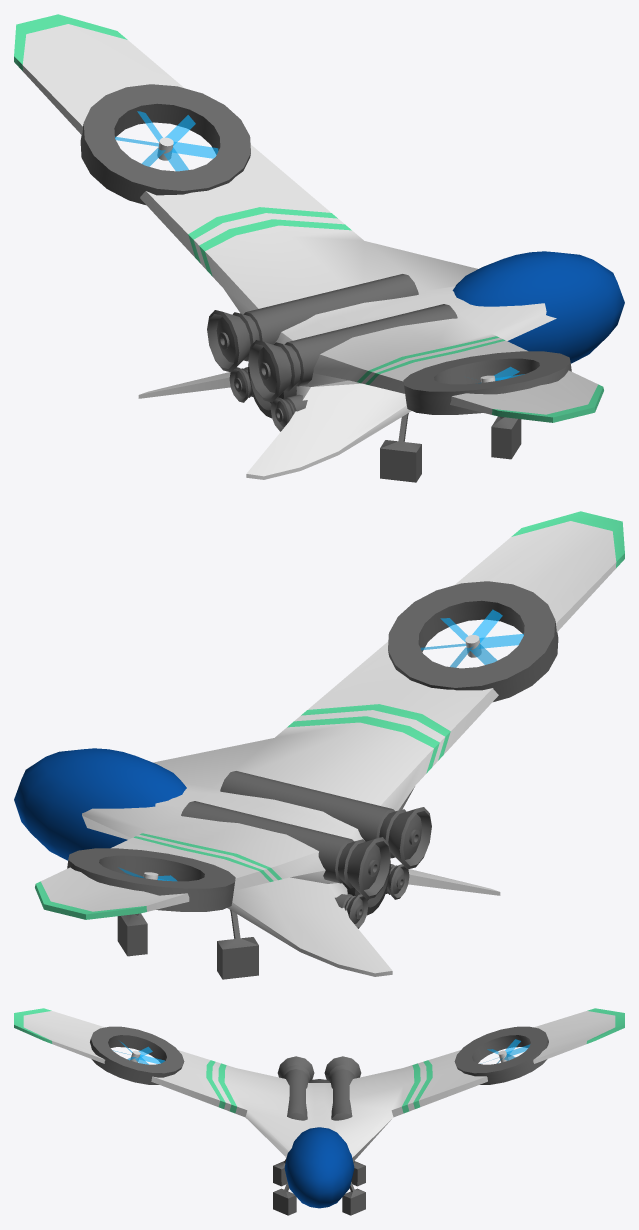
File: ship.glb
3 views of the same model, one above another, from view 1: azimuth 30°, elevation 25°; view 2: azimuth 150°, elevation 25°; view 3: azimuth 270°, elevation 25° (orthographic). The views are drawn at different scales.
Visible parts, largest first — view 1: core-Mat, Tube, Oil Tank (×2), sedile, core-Mat.1 (×2), zampa, elichesx; view 2: core-Mat, Tube, Oil Tank (×2), sedile, core-Mat.1 (×2), zampa, elichedx; view 3: core-Mat, Tube, sedile, Oil Tank, core-Mat.1 (×2), zampa, elichedx, elichesx.
Part boxes in pixels (x1=…): core-Mat: x1=22, y1=24, x2=597, y2=479; Tube: x1=80, y1=84, x2=571, y2=414; Oil Tank (×2): x1=207, y1=274, x2=457, y2=431; sedile: x1=452, y1=251, x2=624, y2=363; core-Mat.1 (×2): x1=14, y1=14, x2=603, y2=422; zampa: x1=380, y1=413, x2=521, y2=482; elichesx: x1=115, y1=111, x2=218, y2=171; core-Mat: x1=41, y1=521, x2=616, y2=976; Tube: x1=67, y1=581, x2=558, y2=911; Oil Tank (×2): x1=181, y1=771, x2=431, y2=928; sedile: x1=14, y1=748, x2=186, y2=860; core-Mat.1 (×2): x1=35, y1=511, x2=624, y2=919; zampa: x1=117, y1=910, x2=258, y2=979; elichedx: x1=420, y1=609, x2=523, y2=667; core-Mat: x1=23, y1=1011, x2=615, y2=1161; Tube: x1=90, y1=1026, x2=548, y2=1084; sedile: x1=284, y1=1127, x2=354, y2=1208; Oil Tank: x1=277, y1=1056, x2=361, y2=1120; core-Mat.1 (×2): x1=14, y1=1008, x2=624, y2=1113; zampa: x1=273, y1=1159, x2=365, y2=1215; elichedx: x1=113, y1=1041, x2=164, y2=1064; elichesx: x1=480, y1=1039, x2=529, y2=1063.
Size of the model in its own units: 152 by 86.02 by 329.
